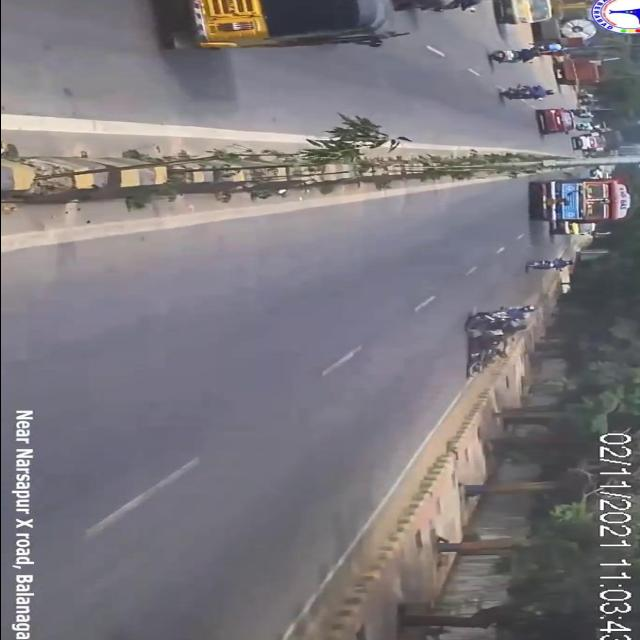accident: (447, 300, 543, 376)
non_accident: (146, 0, 502, 54), (521, 172, 635, 240), (556, 126, 632, 158)
